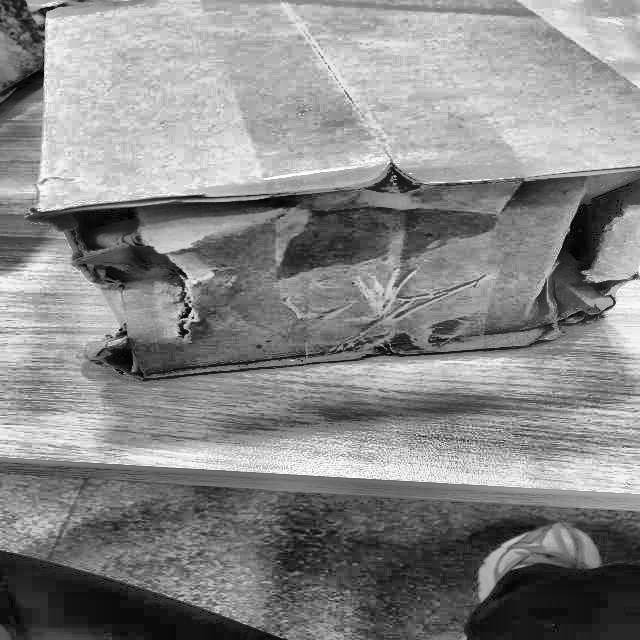box: (24, 0, 639, 382)
hole: (36, 195, 198, 287), (543, 181, 640, 303)
